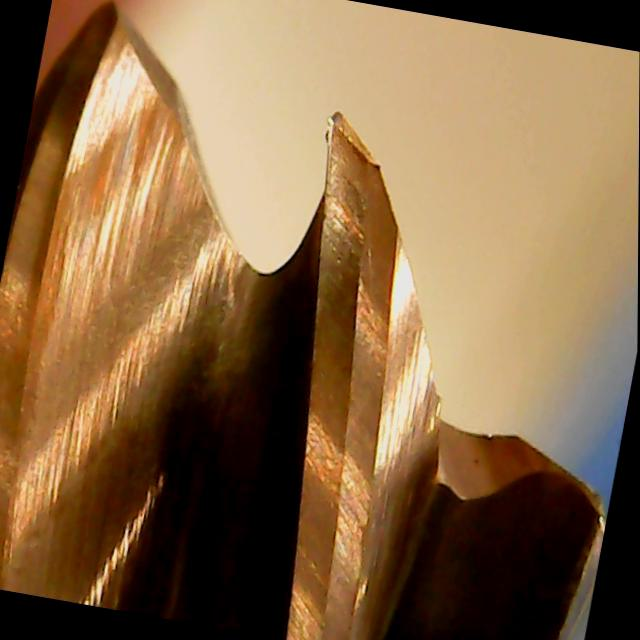Tool-wear-class-1: (271, 97, 422, 318)
